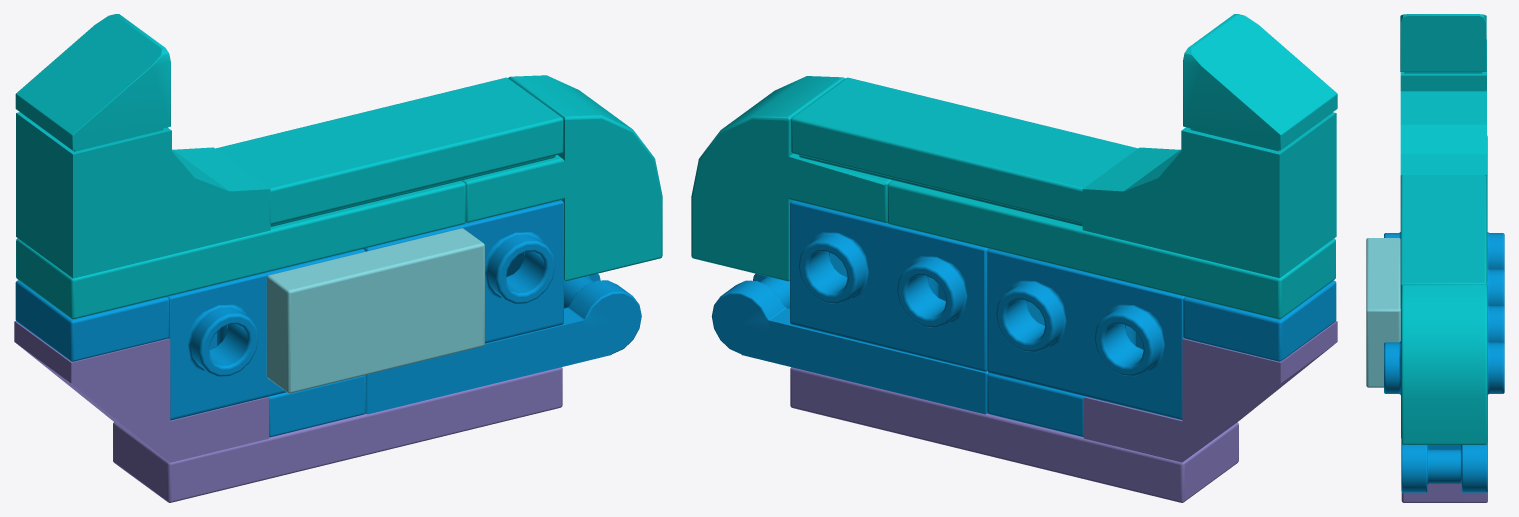
File: Passo 53.fbx
The picture shows the model from 3 angles, left to right: view 1: azimuth 30°, elevation 25°; view 2: azimuth 150°, elevation 25°; view 3: azimuth 270°, elevation 25°; orthographic projection. The views are drawn at different scales.
Visible parts, largest first — view 1: Brick_curved_1x2.016, Tile_1x3.001, Tile_1x2, Brick_cuved_1x2x1.015, Plate_1x4.036, Plate_1x4_1.003, Slope_1x1.023, Plate_special_2x1.005, Slope_2x1.004, Brick_special_2x2__1_.003, Brick_special_2x2.003, Plate_1x1.004 (+1 smaller); view 2: Brick_curved_1x2.016, Tile_1x3.001, Brick_special_2x2.003, Brick_special_2x2__1_.003, Brick_cuved_1x2x1.015, Plate_1x4.036, Plate_1x4_1.003, Slope_1x1.023, Plate_special_2x1.005, Slope_2x1.004, Plate_1x1.004, Plate_1x1_1.003; view 3: Brick_cuved_1x2x1.015, Tile_1x3.001, Brick_curved_1x2.016, Slope_1x1.023, Tile_1x2, Plate_special_2x1.005, Brick_special_2x2.003, Brick_special_2x2__1_.003, Plate_1x4_1.003.
Part boxes in pixels (box(x1,y1,x2,y2)): Brick_curved_1x2.016: box(16, 112, 270, 278); Tile_1x3.001: box(215, 77, 563, 226); Tile_1x2: box(266, 228, 484, 393); Brick_cuved_1x2x1.015: box(461, 75, 662, 281); Plate_1x4.036: box(16, 180, 465, 319); Plate_1x4_1.003: box(113, 367, 562, 502); Slope_1x1.023: box(15, 14, 170, 151); Plate_special_2x1.005: box(365, 273, 641, 414); Slope_2x1.004: box(14, 321, 268, 462); Brick_special_2x2__1_.003: box(167, 249, 365, 420); Brick_special_2x2.003: box(363, 200, 563, 343); Plate_1x1.004: box(15, 280, 168, 361); Brick_curved_1x2.016: box(1082, 112, 1336, 278); Tile_1x3.001: box(791, 77, 1137, 226); Brick_special_2x2.003: box(790, 200, 989, 371); Brick_special_2x2__1_.003: box(987, 249, 1185, 419); Brick_cuved_1x2x1.015: box(691, 76, 892, 281); Plate_1x4.036: box(887, 180, 1335, 319); Plate_1x4_1.003: box(790, 367, 1238, 502); Slope_1x1.023: box(1183, 14, 1337, 151); Plate_special_2x1.005: box(711, 273, 988, 414); Slope_2x1.004: box(1083, 321, 1337, 462); Plate_1x1.004: box(1183, 280, 1336, 361); Plate_1x1_1.003: box(987, 373, 1084, 436); Brick_cuved_1x2x1.015: box(1401, 281, 1487, 444); Tile_1x3.001: box(1400, 175, 1486, 309); Brick_curved_1x2.016: box(1400, 39, 1486, 176); Slope_1x1.023: box(1400, 14, 1486, 73); Tile_1x2: box(1366, 238, 1400, 387); Plate_special_2x1.005: box(1401, 443, 1487, 492); Brick_special_2x2.003: box(1384, 305, 1504, 437); Brick_special_2x2__1_.003: box(1384, 232, 1504, 306); Plate_1x4_1.003: box(1401, 395, 1487, 502).
Size of the model in its own units: 0.4798 by 0.351 by 0.1282.
